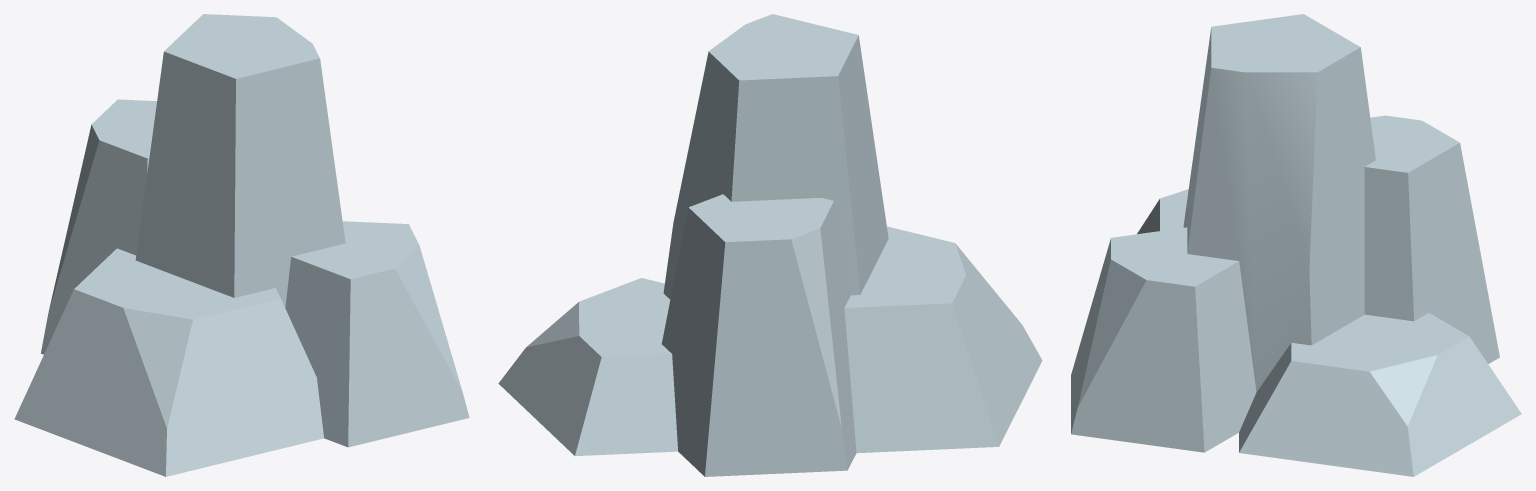
File: rock_large.glb
3 renders of one model, left to right at view 1: azimuth 30°, elevation 25°; view 2: azimuth 150°, elevation 25°; view 3: azimuth 270°, elevation 25°, orthographic. The views are drawn at different scales.
Visible parts, largest first — view 1: rockLarge; view 2: rockLarge; view 3: rockLarge.
Part boxes in pixels (bbox=[...]): rockLarge: bbox=[14, 14, 469, 476]; rockLarge: bbox=[498, 14, 1042, 476]; rockLarge: bbox=[1071, 14, 1521, 476].
Size of the model in its own units: 1.6 by 1.16 by 1.45.
